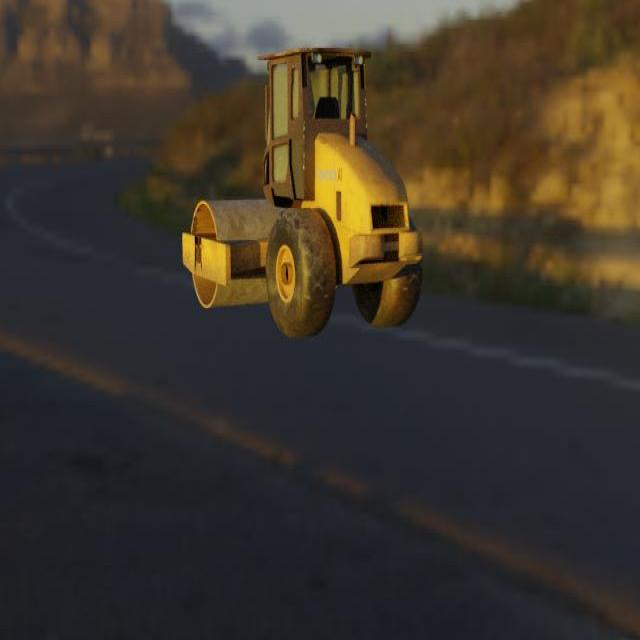Roller: (182, 45, 423, 339)
